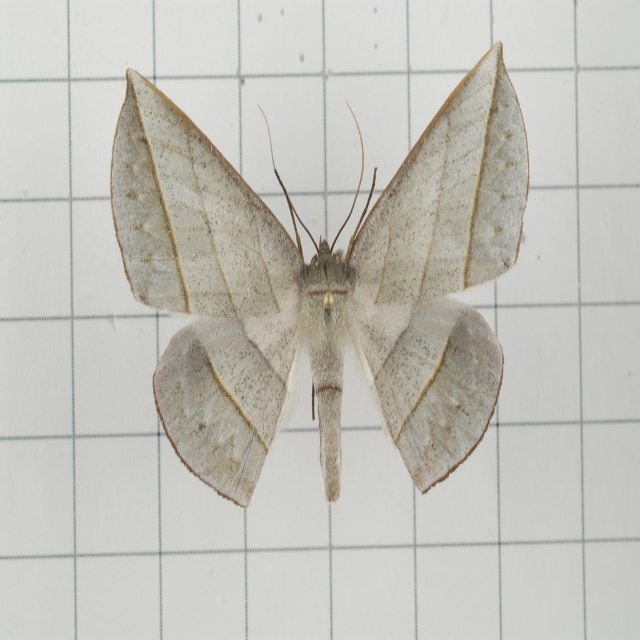Butterfly: (111, 40, 531, 514)
